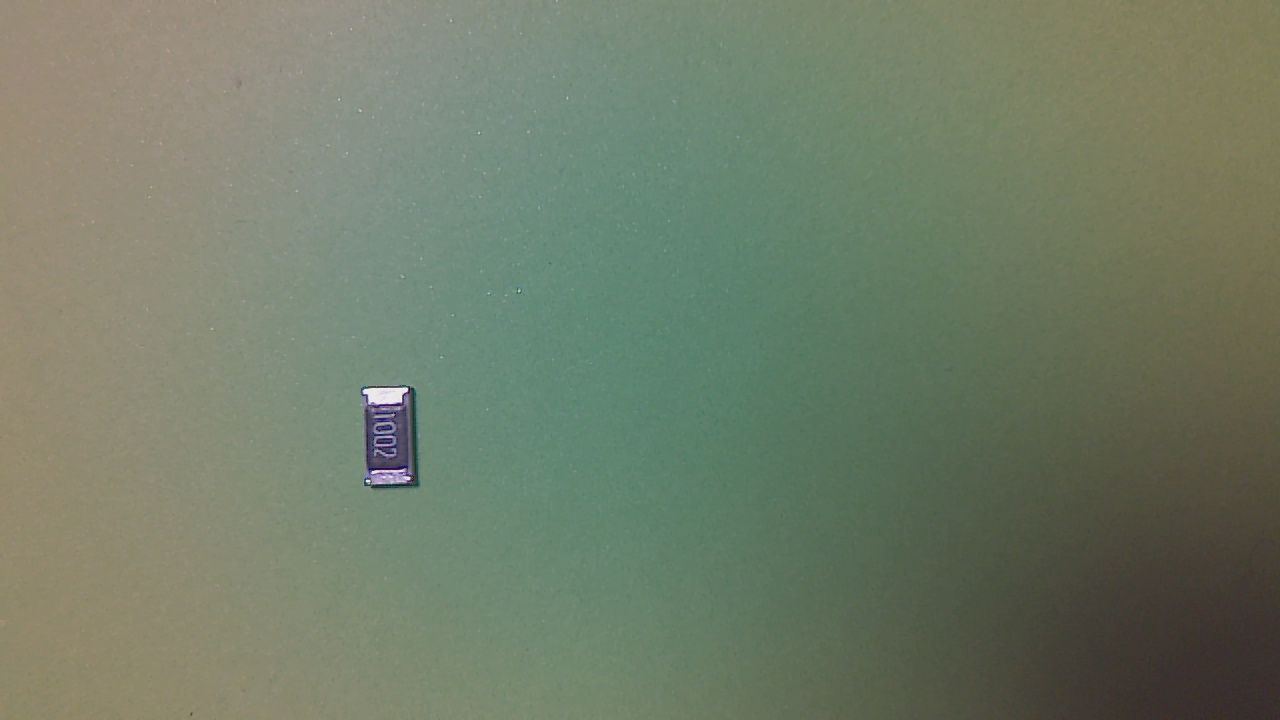Resistor: (360, 386, 430, 499)
